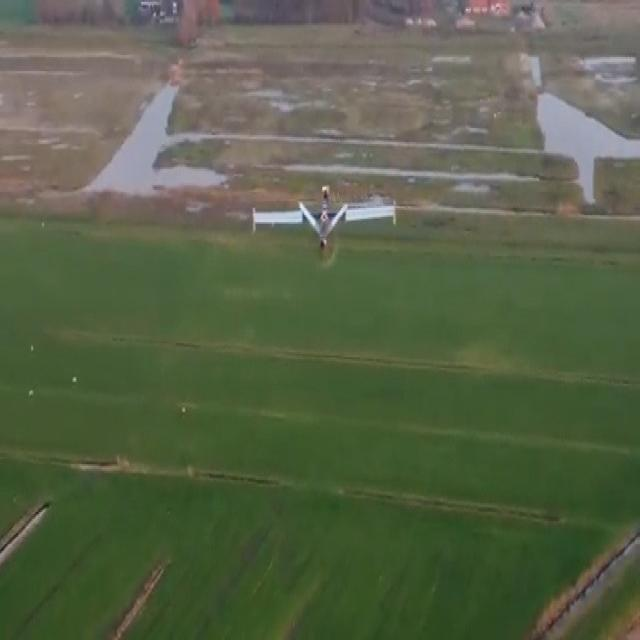drones: (242, 182, 411, 278)
